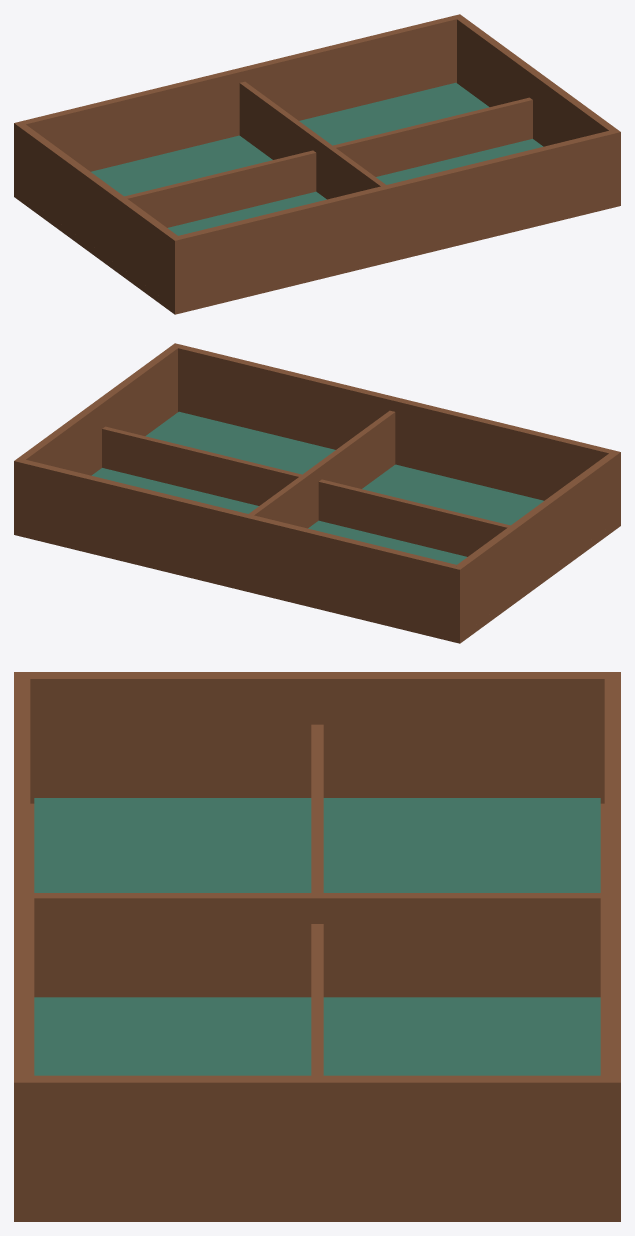
The model's file is classic-chess-essentials-piece-case-c0d2776e__19482.glb.
3 views of the same model, one above another, from view 1: azimuth 30°, elevation 25°; view 2: azimuth 150°, elevation 25°; view 3: azimuth 270°, elevation 25° (orthographic). The views are drawn at different scales.
Visible parts, largest first — view 1: piece-case; view 2: piece-case; view 3: piece-case.
Part boxes in pixels (x1,y1,x2,y2): piece-case: (14, 14, 620, 314); piece-case: (14, 343, 620, 643); piece-case: (14, 672, 620, 1221).
Bounding box in the file's own units: 0.24 × 0.038 × 0.15.
